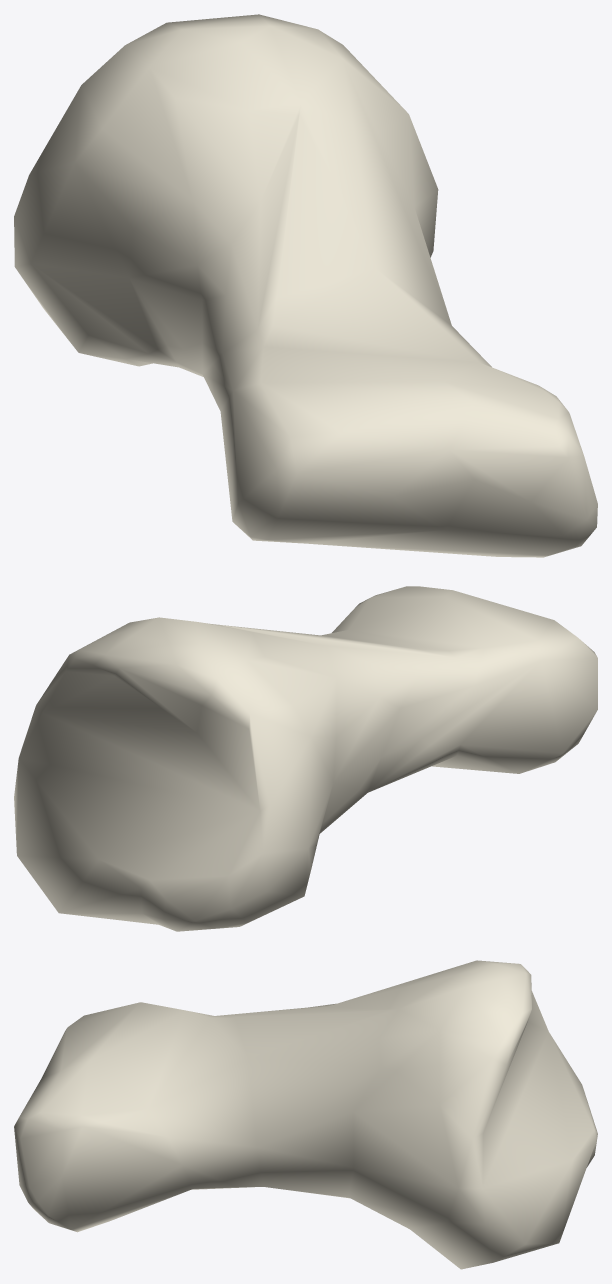
3 views of the same model, one above another, from view 1: azimuth 30°, elevation 25°; view 2: azimuth 150°, elevation 25°; view 3: azimuth 270°, elevation 25° (orthographic). The views are drawn at different scales.
Visible parts, largest first — view 1: ZA_f6d27914d0348e23; view 2: ZA_f6d27914d0348e23; view 3: ZA_f6d27914d0348e23.
Boxes of the visible parts, x1,y1,x2,y2 form: ZA_f6d27914d0348e23: (14,14,597,557); ZA_f6d27914d0348e23: (14,586,597,931); ZA_f6d27914d0348e23: (14,960,597,1269).
Bounding box in the file's own units: 0.0111 × 0.0083 × 0.0174.
